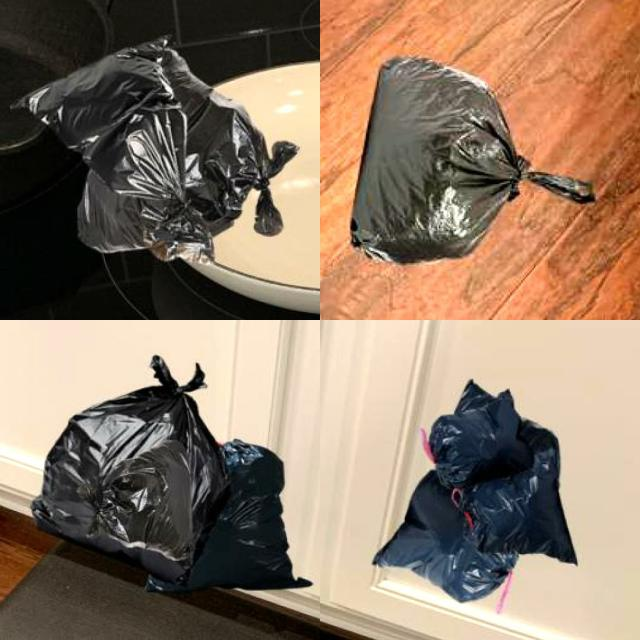Single-layer Plastic: (14, 38, 298, 262), (351, 58, 595, 263), (374, 380, 576, 602), (31, 355, 228, 581), (146, 440, 311, 592), (429, 380, 532, 488)
